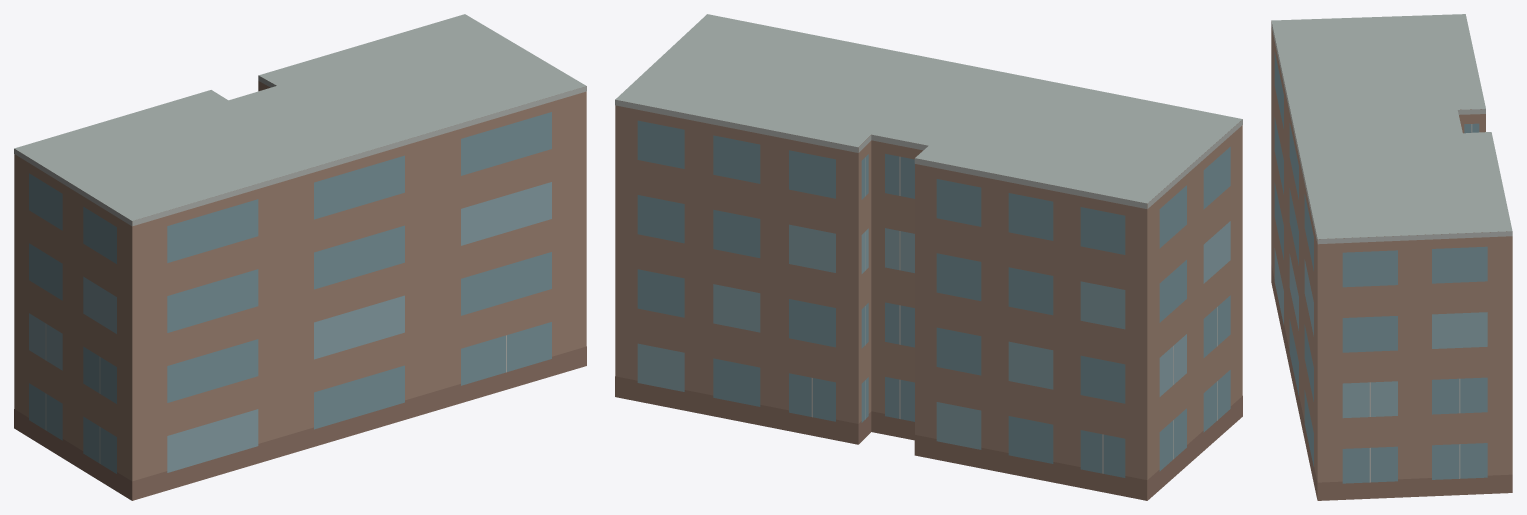
File: survey-upis-32626098.glb
3 views of the same model, side by side, from view 1: azimuth 30°, elevation 25°; view 2: azimuth 150°, elevation 25°; view 3: azimuth 270°, elevation 25° (orthographic). The views are drawn at different scales.
Visible parts, largest first — view 1: survey-upis-32626098.tmp; view 2: survey-upis-32626098.tmp; view 3: survey-upis-32626098.tmp.
Boxes of the visible parts, x1=… form: survey-upis-32626098.tmp: x1=14, y1=14, x2=586, y2=500; survey-upis-32626098.tmp: x1=615, y1=14, x2=1242, y2=500; survey-upis-32626098.tmp: x1=1271, y1=14, x2=1512, y2=500.
Bounding box in the file's own units: 23.44 × 12.7 × 10.62.
